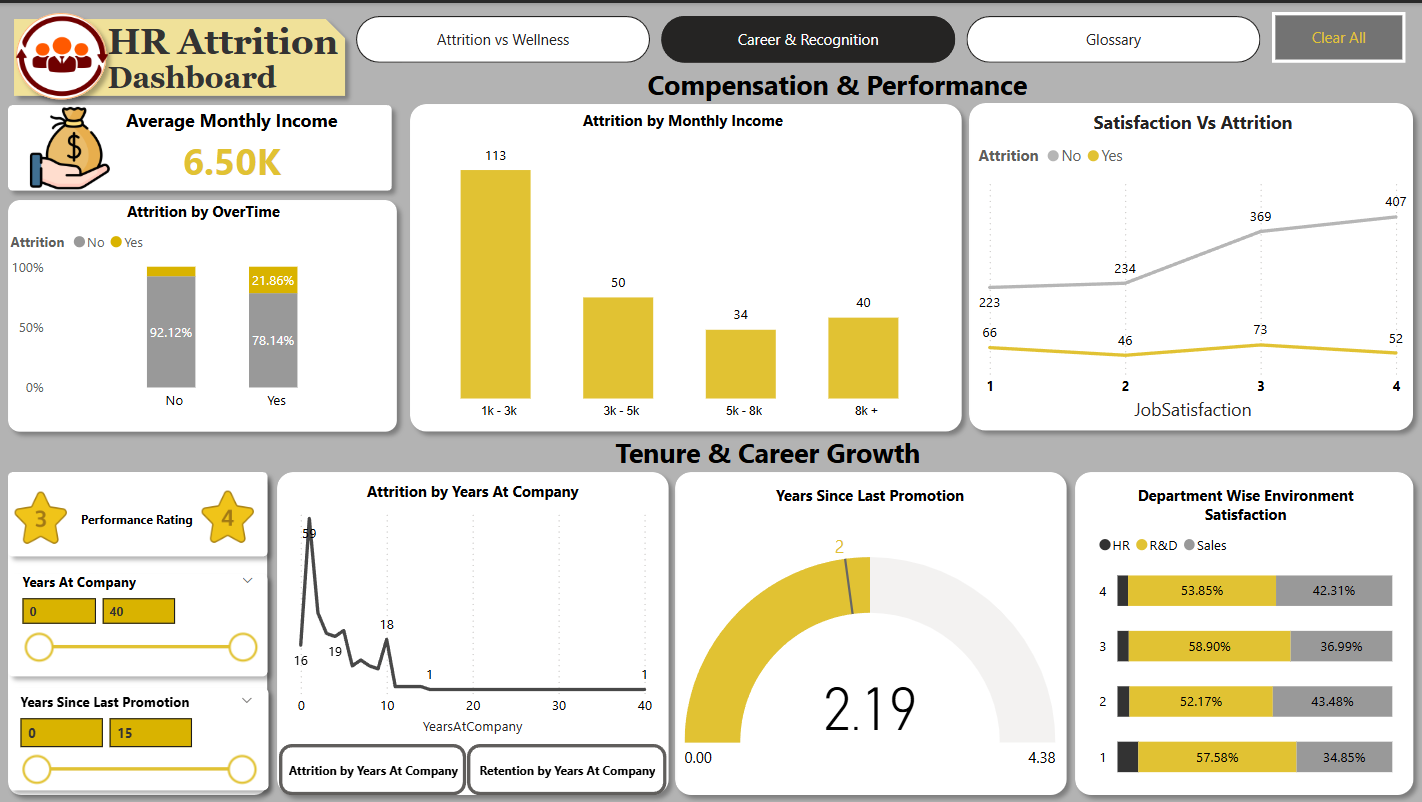

The page's visual inventory and layout, read from the dashboard file:
{"tool":"powerbi","page":{"name":"Career & Recognition","canvas":[1280,720],"ordinal":1},"visuals":[{"type":"shape","box":[862.7,80.6,417.3,312.4],"z":0},{"type":"shape","box":[0,412.1,250.7,308],"z":1000},{"type":"shape","box":[0,412.5,251.2,93.8],"z":2000},{"type":"shape","box":[0,503.8,251.2,110],"z":3000},{"type":"shape","box":[1.2,606.2,251.2,110],"z":4000},{"type":"shape","box":[958.1,412.1,321.9,308],"z":5000},{"type":"shape","box":[599.1,411.9,369.7,308],"z":6000},{"type":"shape","box":[0,167.5,367.5,226.2],"z":7000},{"type":"shape","box":[360.8,81.6,514,312.4],"z":8000},{"type":"shape","box":[5.7,5.7,315.7,87.1],"z":9000},{"type":"shape","box":[241.1,412.1,369.7,308],"z":10000},{"type":"textbox","box":[93.7,12.1,227.8,78.6],"z":11000},{"type":"shape","box":[6.9,0,99.4,95.9],"z":12000},{"type":"image","box":[8.6,2.9,97.1,90],"z":13000},{"type":"textbox","box":[540,381.2,301.2,48.8],"z":14000},{"type":"hundredPercentStackedColumnChart","title":"Attrition by OverTime","fields":{"Category":["HR.OverTime"],"Y":["Sum(HR.MonthlyIncome)"],"Series":["HR.Attrition"]},"box":[6.2,177.5,356.2,197.5],"z":15000},{"type":"clusteredColumnChart","title":"Attrition by Monthly Income","fields":{"Y":["HR.Attrition count"],"Category":["HR.Income Group"]},"box":[365.9,95.7,496.9,285.2],"z":17000},{"type":"gauge","title":"Years Since Last Promotion","fields":{"Y":["Avg(HR.YearsSinceLastPromotion)"],"TargetValue":["HR.Goal"]},"box":[611,433,343,277],"z":18000},{"type":"slicer","fields":{"Values":["HR.YearsAtCompany"]},"box":[8.8,506.2,232.5,88.8],"z":20000},{"type":"slicer","fields":{"Values":["HR.YearsSinceLastPromotion"]},"box":[7.5,613.8,233.8,90],"z":21000},{"type":"lineChart","title":"Attrition by Years At Company","fields":{"Category":["HR.YearsAtCompany"],"Y":["HR.Attrition count"]},"box":[257,429.4,338.6,232.8],"z":22000},{"type":"textbox","box":[529.1,51.4,449.5,54.4],"z":23000},{"type":"pageNavigator","box":[321.2,11.2,813.8,42.5],"z":24000},{"type":"actionButton","box":[1144,8.5,120,45.7],"z":25000},{"type":"shape","box":[0,82.5,362.5,95],"z":26000},{"type":"hundredPercentStackedBarChart","title":"Department Wise Environment Satisfaction ","fields":{"Series":["HR.Department"],"Category":["HR.JobSatisfaction"],"Y":["HR.Attrition count"]},"box":[983.3,433.2,274,277.2],"z":27000},{"type":"card","title":"Average Monthly Income","fields":{"Values":["Avg(HR.MonthlyIncome)"]},"box":[102,94,215,74],"z":28000},{"type":"lineChart","title":"Satisfaction Vs Attrition","fields":{"Series":["HR.Attrition"],"Category":["HR.JobSatisfaction"],"Y":["Sum(HR.EmployeeCount)"]},"box":[875.2,96.3,394.9,284.4],"z":29000},{"type":"actionButton","box":[252,665.2,169.3,46.4],"z":31000},{"type":"actionButton","box":[421.3,665.2,180.4,46.4],"z":32000},{"type":"image","box":[22,85,84,90],"z":33000},{"type":"image","box":[178,433,57,57],"z":34000},{"type":"image","box":[10,434,57,57],"z":35000},{"type":"textbox","box":[60,449,129,30],"z":36000}]}

Visuals, with their boxes in screenshot pixels (x1, y1, x2, y2), scaled from the page's 1280x720 canvas onto the 1422x802 screenshot:
shape: <bbox>958, 90, 1421, 438</bbox>
shape: <bbox>0, 459, 279, 801</bbox>
shape: <bbox>0, 459, 279, 564</bbox>
shape: <bbox>0, 561, 279, 684</bbox>
shape: <bbox>1, 675, 280, 798</bbox>
shape: <bbox>1064, 459, 1421, 801</bbox>
shape: <bbox>666, 459, 1076, 801</bbox>
shape: <bbox>0, 187, 408, 439</bbox>
shape: <bbox>401, 91, 972, 439</bbox>
shape: <bbox>6, 6, 357, 103</bbox>
shape: <bbox>268, 459, 679, 801</bbox>
textbox: <bbox>104, 13, 357, 101</bbox>
shape: <bbox>8, 0, 118, 107</bbox>
image: <bbox>10, 3, 117, 103</bbox>
textbox: <bbox>600, 425, 935, 479</bbox>
"Attrition by OverTime" hundredPercentStackedColumnChart: <bbox>7, 198, 403, 418</bbox>
"Attrition by Monthly Income" clusteredColumnChart: <bbox>406, 107, 959, 424</bbox>
"Years Since Last Promotion" gauge: <bbox>679, 482, 1060, 791</bbox>
slicer - HR.YearsAtCompany: <bbox>10, 564, 268, 663</bbox>
slicer - HR.YearsSinceLastPromotion: <bbox>8, 684, 268, 784</bbox>
"Attrition by Years At Company" lineChart: <bbox>286, 478, 662, 738</bbox>
textbox: <bbox>588, 57, 1087, 118</bbox>
pageNavigator: <bbox>357, 12, 1261, 60</bbox>
actionButton: <bbox>1271, 9, 1404, 60</bbox>
shape: <bbox>0, 92, 403, 198</bbox>
"Department Wise Environment Satisfaction " hundredPercentStackedBarChart: <bbox>1092, 483, 1397, 791</bbox>
"Average Monthly Income" card: <bbox>113, 105, 352, 187</bbox>
"Satisfaction Vs Attrition" lineChart: <bbox>972, 107, 1411, 424</bbox>
actionButton: <bbox>280, 741, 468, 793</bbox>
actionButton: <bbox>468, 741, 668, 793</bbox>
image: <bbox>24, 95, 118, 195</bbox>
image: <bbox>198, 482, 261, 546</bbox>
image: <bbox>11, 483, 74, 547</bbox>
textbox: <bbox>67, 500, 210, 534</bbox>
